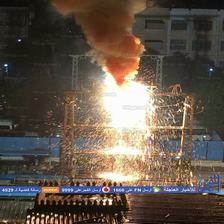fire: (57, 8, 167, 183)
